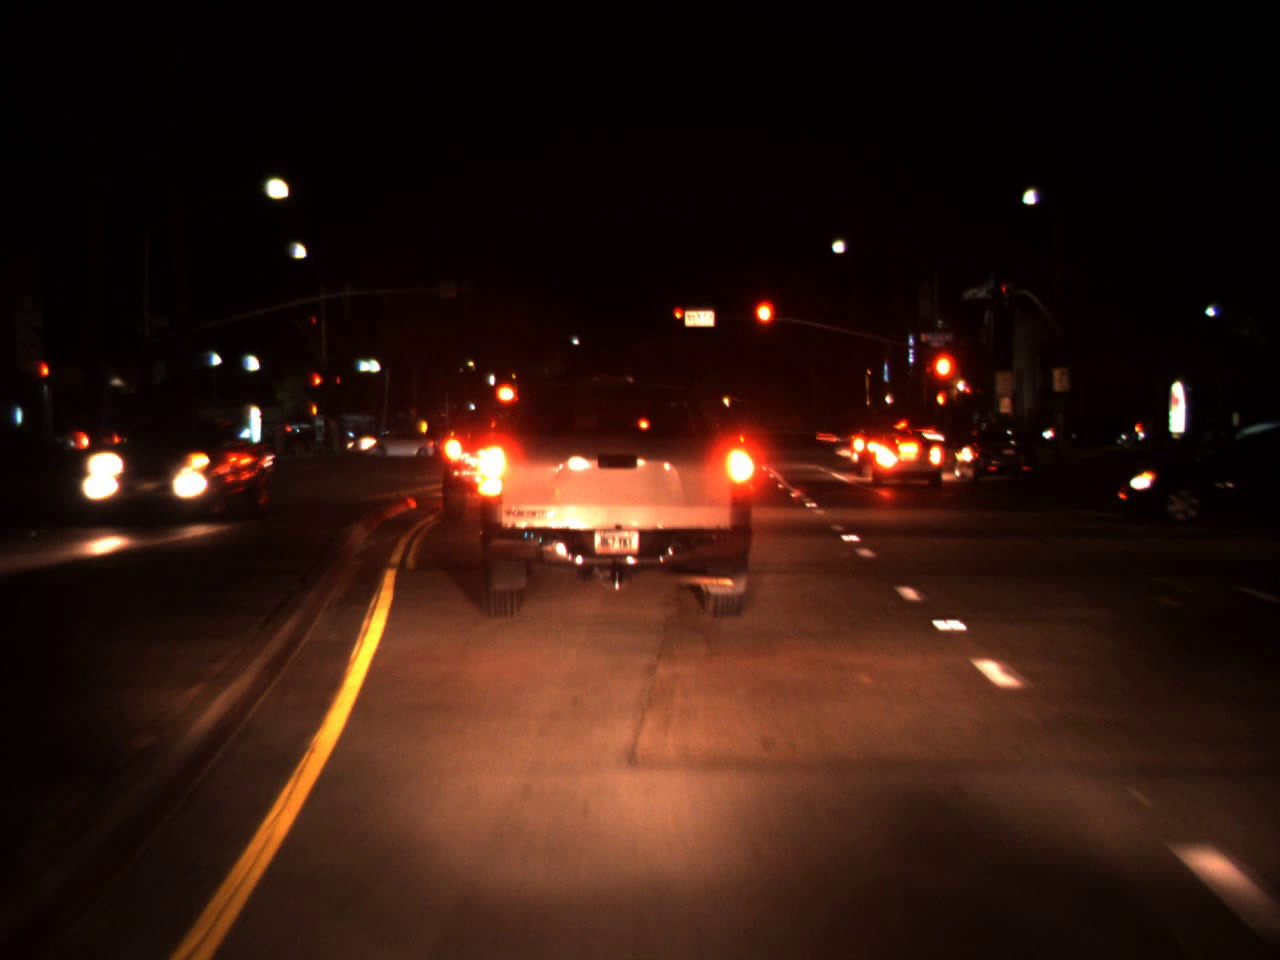stop: (926, 347, 962, 417), (751, 296, 778, 355), (312, 371, 324, 400), (673, 307, 685, 325)
